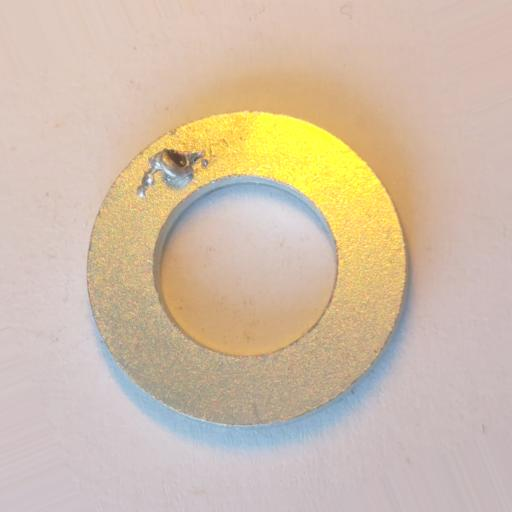excess_material: (136, 148, 206, 198)
